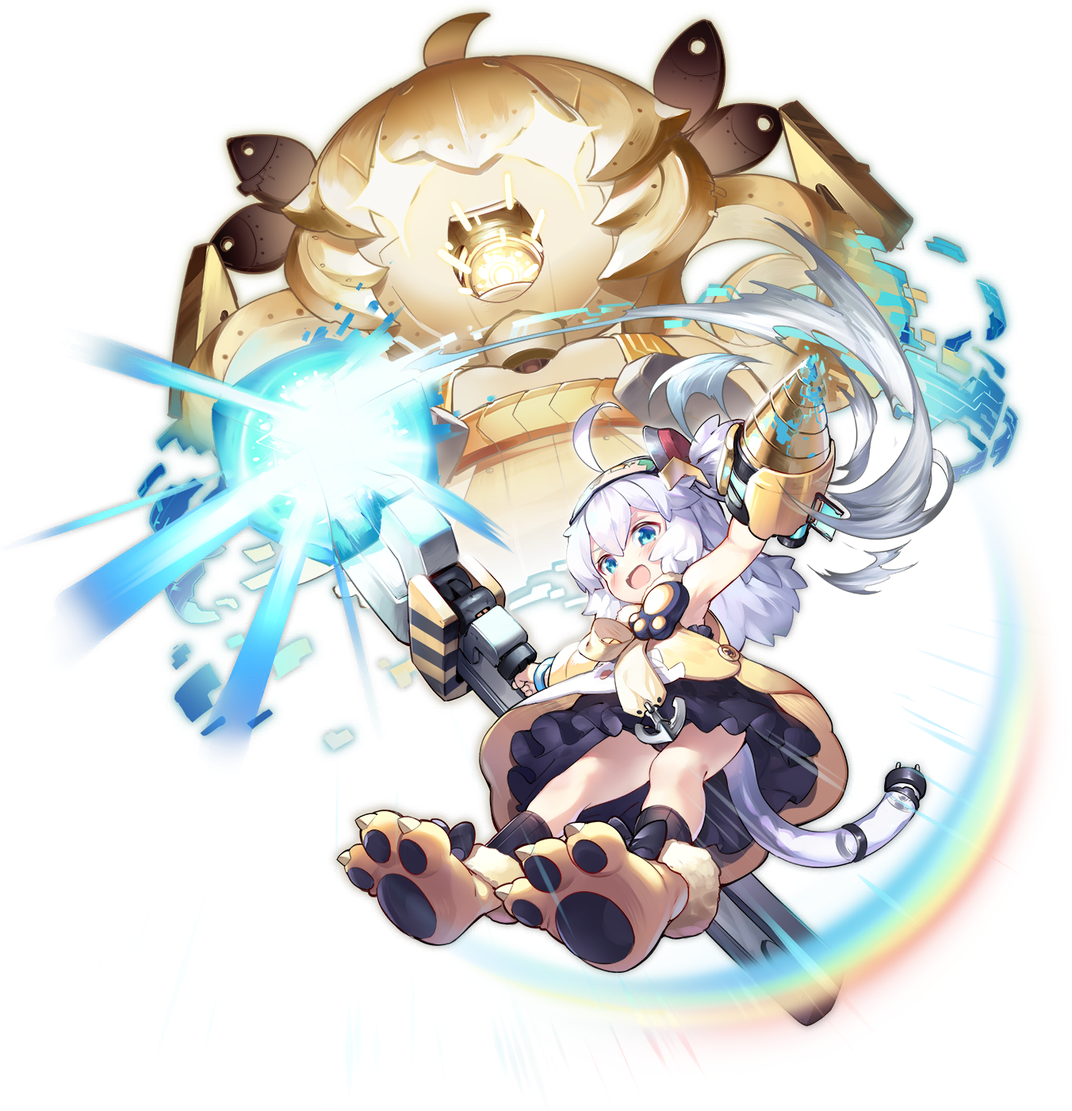person: (324, 333, 949, 1078)
